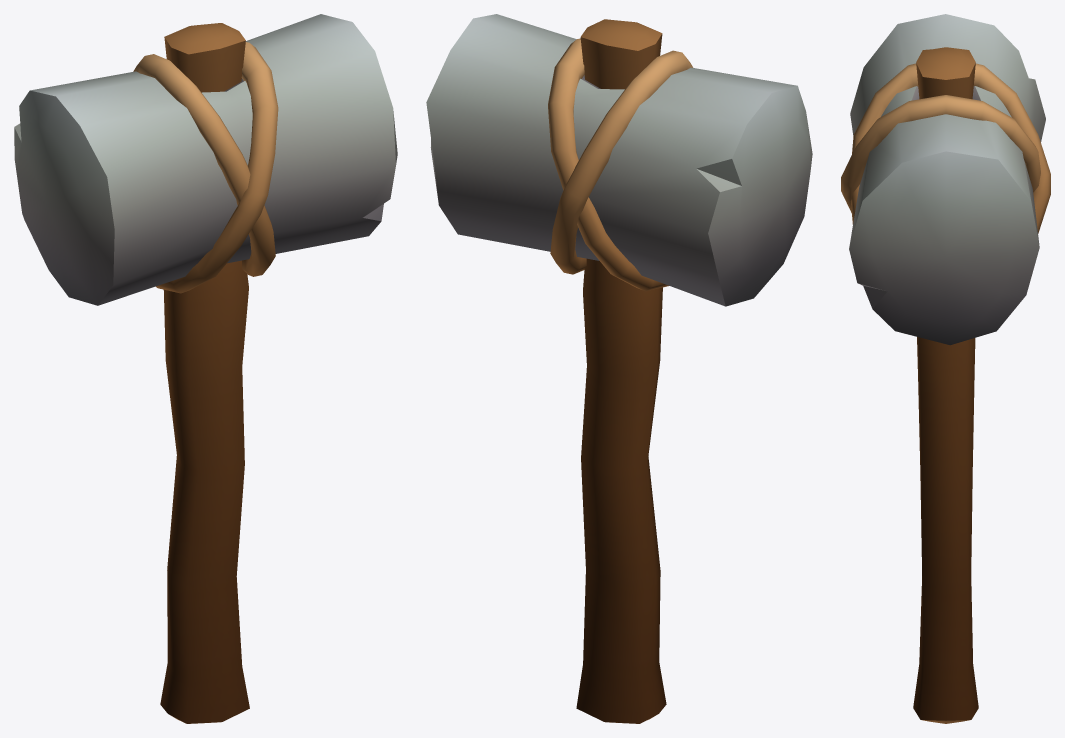
The model's file is Hammer_01.obj.
The picture shows the model from 3 angles, left to right: view 1: azimuth 30°, elevation 25°; view 2: azimuth 150°, elevation 25°; view 3: azimuth 270°, elevation 25°; orthographic projection. The views are drawn at different scales.
Parts seen in each view (by area): view 1: Hammer_01; view 2: Hammer_01; view 3: Hammer_01.
Part boxes in pixels (bbox=[...]): Hammer_01: bbox=[14, 14, 397, 723]; Hammer_01: bbox=[426, 14, 812, 723]; Hammer_01: bbox=[841, 14, 1050, 723].
Size of the model in its own units: 0.5018 by 1.03 by 0.2976.
